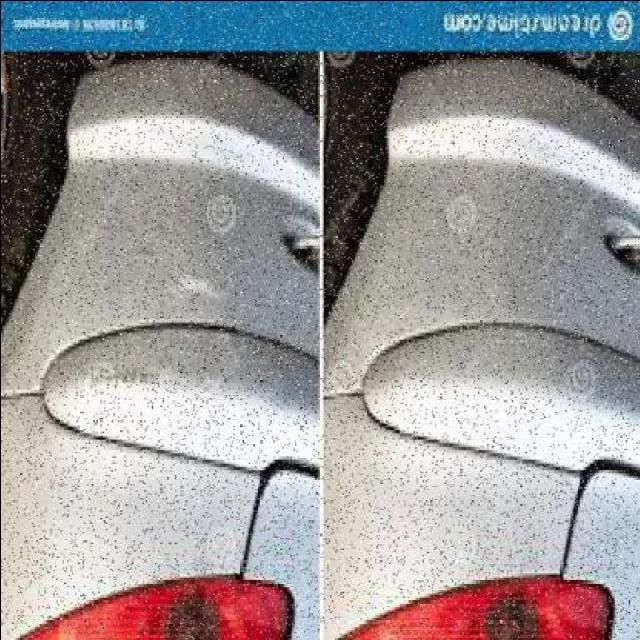rear-bumper-dent: (2, 63, 325, 492)
